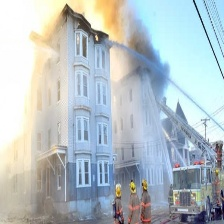smoke: (47, 1, 172, 82)
